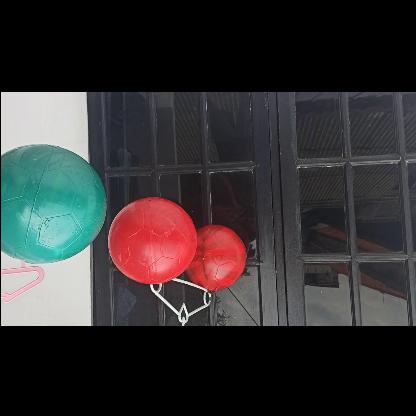red_ball: (110, 196, 196, 282)
